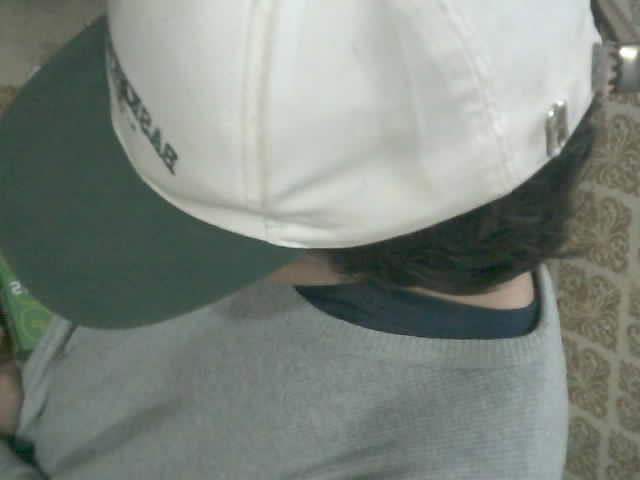cap: (0, 0, 600, 330)
